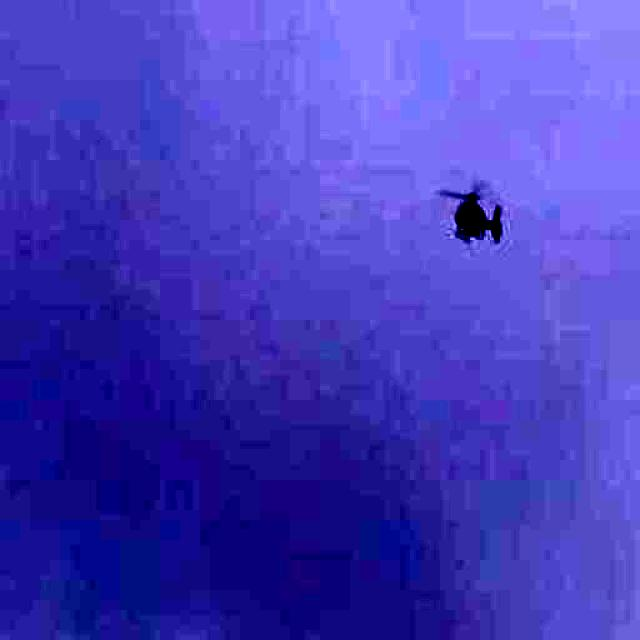drone: (408, 158, 519, 270)
